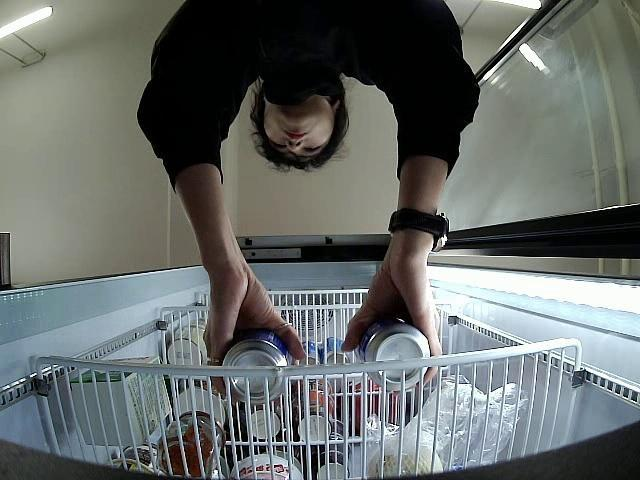13_pocariSweat: (354, 315, 432, 393), (221, 330, 294, 407)
